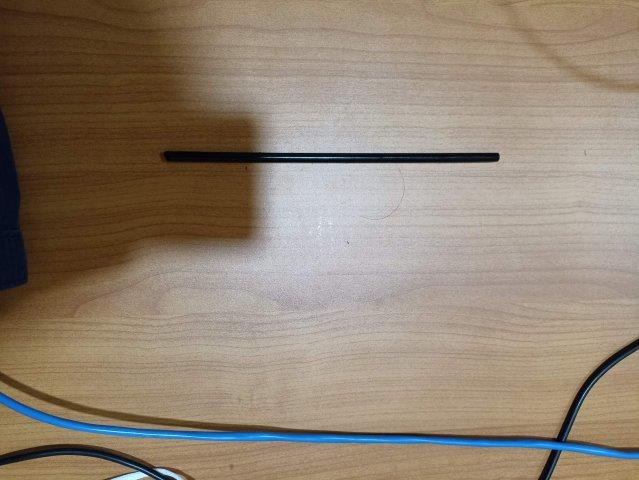sedotan: (164, 151, 499, 163)
